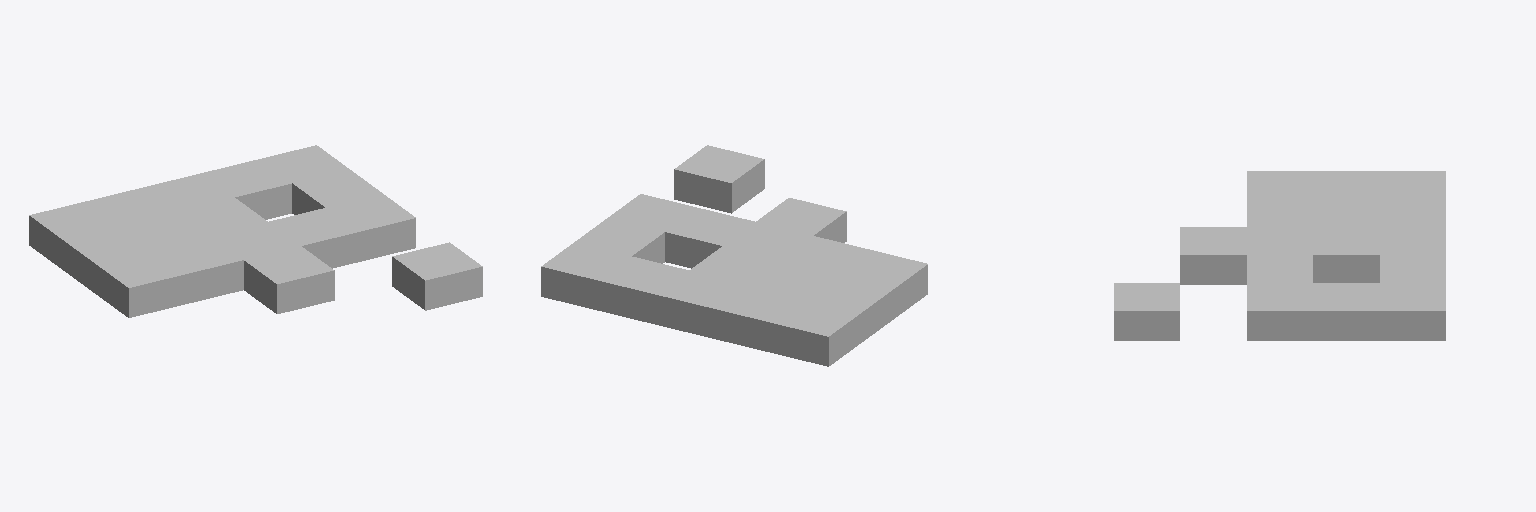
Rendered from 65f_block.obj.
The picture shows the model from 3 angles: view 1: azimuth 30°, elevation 25°; view 2: azimuth 150°, elevation 25°; view 3: azimuth 270°, elevation 25°; orthographic projection.
Parts seen in each view (by area): view 1: foil.block.4.0_block.4757, foil.block.2.1_block.4750, foil.block.0.2_block.4744, foil.block.1.2_block.4747, foil.block.4.2_block.4758, foil.block.3.2_block.4754, foil.block.3.4_block.4756, foil.block.0.3_block.4745, foil.block.0.4_block.4746, foil.block.4.3_block.4759, foil.block.2.4_block.4753, foil.block.1.3_block.4748 (+4 smaller); view 2: foil.block.0.4_block.4746, foil.block.4.0_block.4757, foil.block.4.4_block.4760, foil.block.2.4_block.4753, foil.block.1.4_block.4749, foil.block.3.4_block.4756, foil.block.3.2_block.4754, foil.block.0.2_block.4744, foil.block.0.3_block.4745, foil.block.2.1_block.4750, foil.block.4.3_block.4759, foil.block.1.3_block.4748 (+4 smaller); view 3: foil.block.2.1_block.4750, foil.block.4.3_block.4759, foil.block.4.0_block.4757, foil.block.4.2_block.4758, foil.block.4.4_block.4760, foil.block.2.3_block.4752, foil.block.0.3_block.4745, foil.block.1.3_block.4748, foil.block.0.2_block.4744, foil.block.0.4_block.4746, foil.block.1.2_block.4747, foil.block.1.4_block.4749 (+4 smaller).
Part boxes in pixels (bbox=[...]): foil.block.4.0_block.4757: bbox=[392, 242, 482, 310]; foil.block.2.1_block.4750: bbox=[244, 246, 334, 313]; foil.block.0.2_block.4744: bbox=[96, 250, 185, 317]; foil.block.1.2_block.4747: bbox=[154, 236, 243, 303]; foil.block.4.2_block.4758: bbox=[327, 194, 415, 261]; foil.block.3.2_block.4754: bbox=[269, 208, 358, 268]; foil.block.3.4_block.4756: bbox=[202, 159, 291, 219]; foil.block.0.3_block.4745: bbox=[62, 226, 152, 293]; foil.block.0.4_block.4746: bbox=[29, 201, 119, 268]; foil.block.4.3_block.4759: bbox=[292, 169, 382, 214]; foil.block.2.4_block.4753: bbox=[145, 173, 234, 210]; foil.block.1.3_block.4748: bbox=[120, 212, 209, 249]; foil.block.0.4_block.4746: bbox=[771, 298, 861, 366]; foil.block.4.0_block.4757: bbox=[674, 145, 764, 213]; foil.block.4.4_block.4760: bbox=[541, 242, 631, 310]; foil.block.2.4_block.4753: bbox=[656, 270, 746, 338]; foil.block.1.4_block.4749: bbox=[714, 285, 803, 352]; foil.block.3.4_block.4756: bbox=[599, 257, 688, 324]; foil.block.3.2_block.4754: bbox=[665, 208, 754, 268]; foil.block.0.2_block.4744: bbox=[839, 250, 927, 317]; foil.block.0.3_block.4745: bbox=[805, 274, 894, 341]; foil.block.2.1_block.4750: bbox=[756, 198, 846, 242]; foil.block.4.3_block.4759: bbox=[575, 218, 664, 263]; foil.block.1.3_block.4748: bbox=[747, 260, 836, 297]; foil.block.2.1_block.4750: bbox=[1180, 227, 1246, 284]; foil.block.4.3_block.4759: bbox=[1313, 283, 1379, 340]; foil.block.4.0_block.4757: bbox=[1114, 283, 1179, 340]; foil.block.4.2_block.4758: bbox=[1247, 283, 1312, 340]; foil.block.4.4_block.4760: bbox=[1380, 283, 1445, 340]; foil.block.2.3_block.4752: bbox=[1313, 227, 1379, 282]; foil.block.0.3_block.4745: bbox=[1313, 171, 1379, 198]; foil.block.1.3_block.4748: bbox=[1313, 199, 1379, 226]; foil.block.0.2_block.4744: bbox=[1247, 171, 1312, 198]; foil.block.0.4_block.4746: bbox=[1380, 171, 1445, 198]; foil.block.1.2_block.4747: bbox=[1247, 199, 1312, 226]; foil.block.1.4_block.4749: bbox=[1380, 199, 1445, 226].
Bounding box in the file's own units: 10 × 1 × 10.